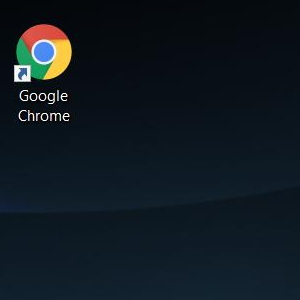chrome: (13, 24, 72, 82)
